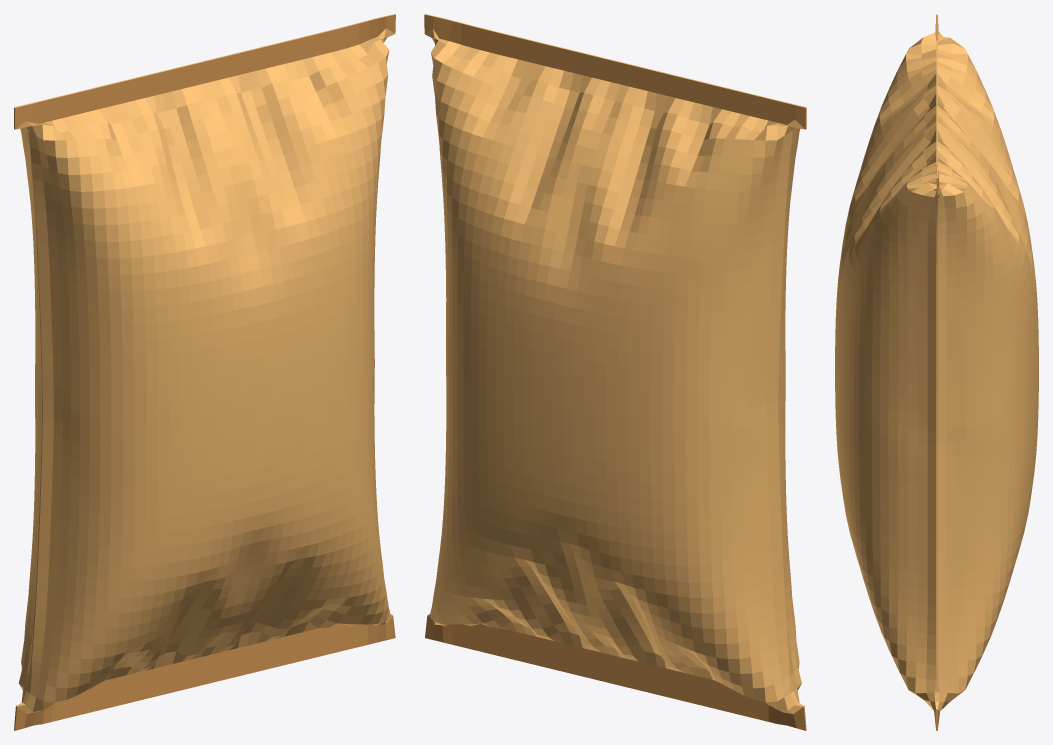
The model's file is saco.fbx.
3 views of the same model, side by side, from view 1: azimuth 30°, elevation 25°; view 2: azimuth 150°, elevation 25°; view 3: azimuth 270°, elevation 25° (orthographic). The views are drawn at different scales.
Parts seen in each view (by area): view 1: Plane; view 2: Plane; view 3: Plane.
Boxes of the visible parts, x1,y1,x2,y2 form: Plane: (14, 14, 395, 730); Plane: (424, 14, 806, 730); Plane: (835, 14, 1038, 730).
Size of the model in its own units: 428 by 670 by 224.
